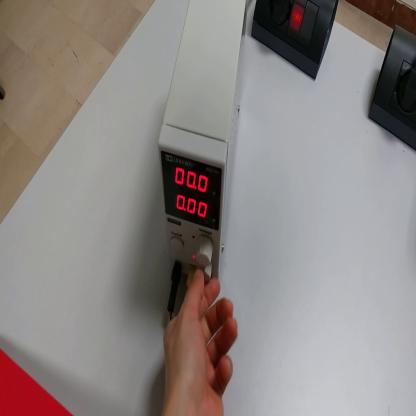hand: (162, 271, 238, 416)
power supply: (158, 2, 249, 291)
socket: (251, 1, 339, 82), (367, 17, 416, 151)
